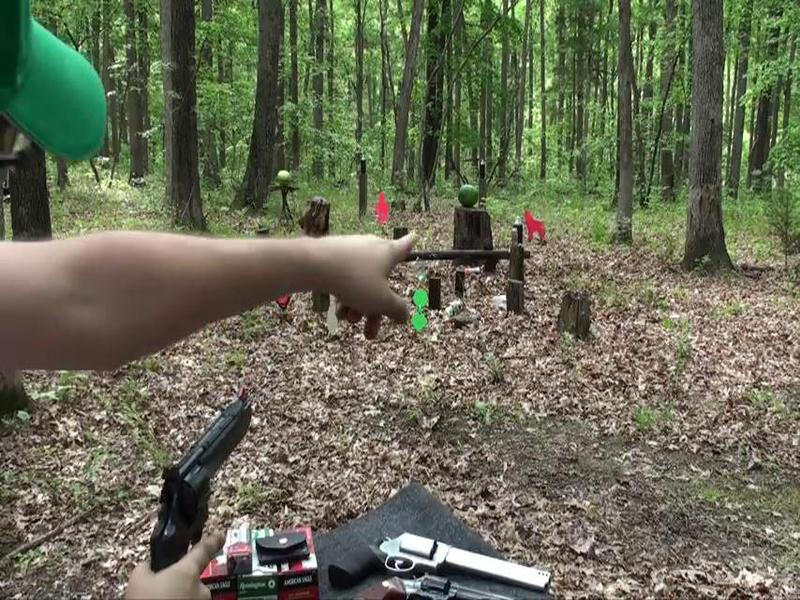Revolver: (141, 393, 282, 591)
